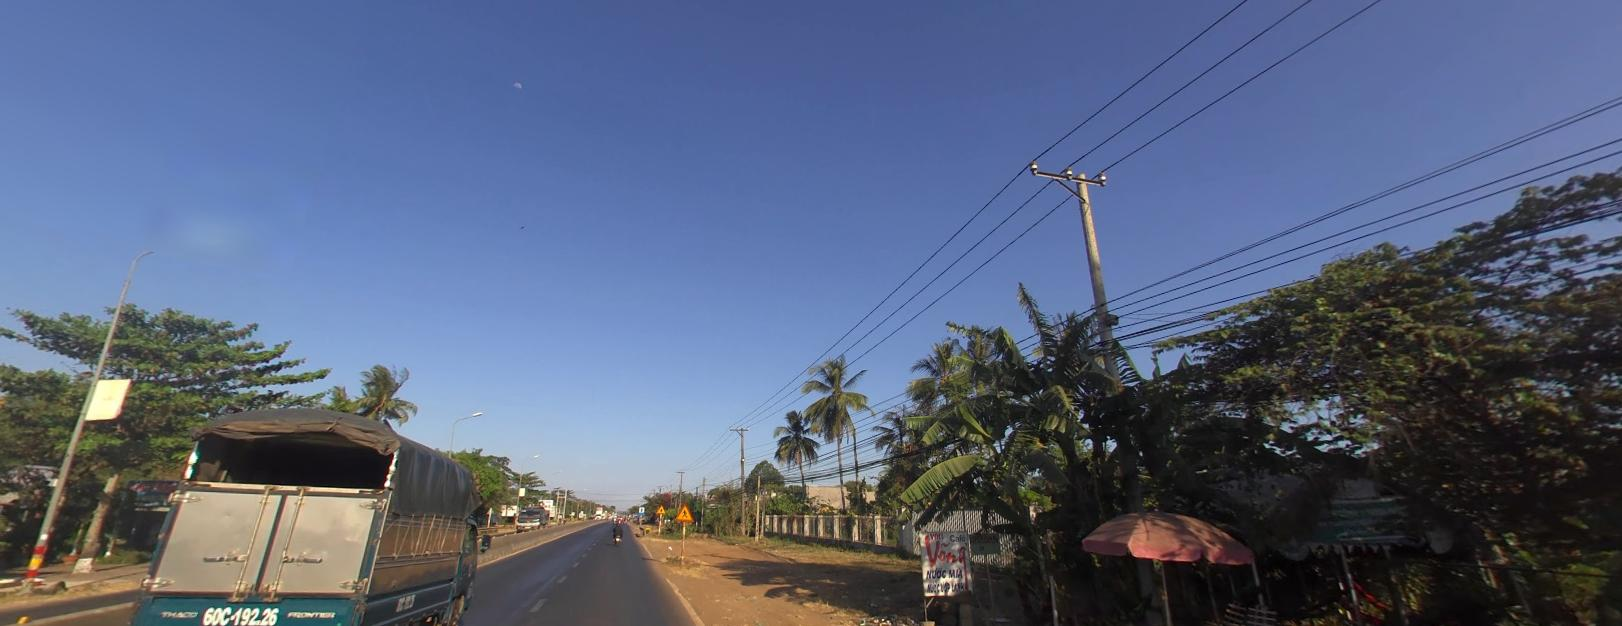Nguy hiem: (675, 502, 693, 520), (675, 504, 693, 521), (656, 503, 665, 512), (655, 504, 665, 512)
